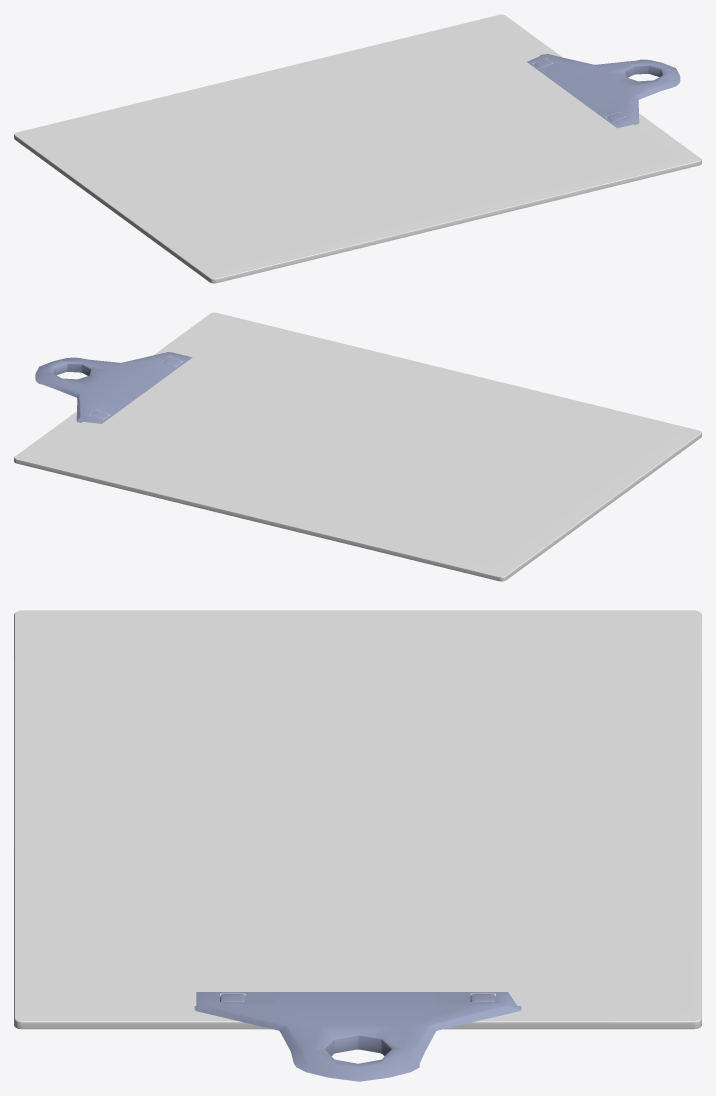
Rendered from Clipboard_nib_v01.fbx.
3 renders of one model, top to bottom at view 1: azimuth 30°, elevation 25°; view 2: azimuth 150°, elevation 25°; view 3: azimuth 270°, elevation 25°, orthographic. The views are drawn at different scales.
Parts seen in each view (by area): view 1: Paper, Board, Clip.002; view 2: Paper, Board, Clip.002; view 3: Paper, Board, Clip.002.
Boxes of the visible parts, x1=… form: Paper: x1=36, y1=21, x2=679, y2=269; Board: x1=14, y1=14, x2=701, y2=283; Clip.002: x1=527, y1=54, x2=680, y2=128; Paper: x1=36, y1=319, x2=679, y2=567; Board: x1=14, y1=312, x2=701, y2=581; Clip.002: x1=35, y1=352, x2=192, y2=423; Paper: x1=37, y1=622, x2=678, y2=1005; Board: x1=14, y1=610, x2=701, y2=1029; Clip.002: x1=194, y1=992, x2=521, y2=1081.
Bounding box in the file's own units: 39.03 × 0.6082 × 24.
